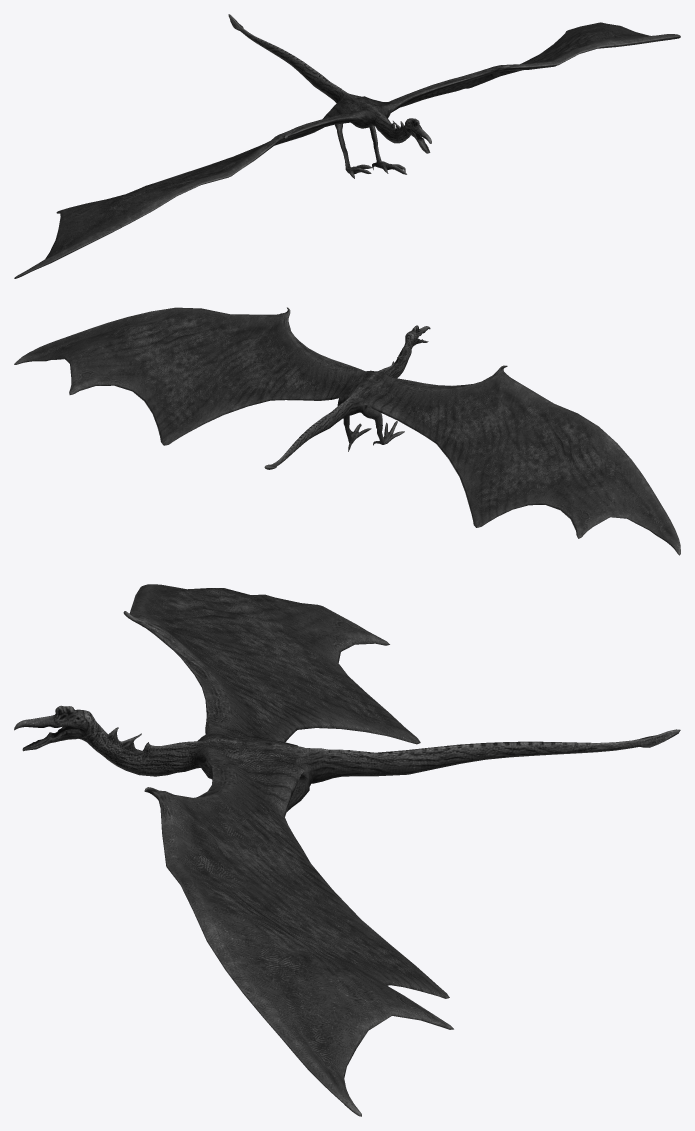
Rendered from Fellbeast_Animate_Grab_Glide_28.obj.
3 views of the same model, one above another, from view 1: azimuth 30°, elevation 25°; view 2: azimuth 150°, elevation 25°; view 3: azimuth 270°, elevation 25° (orthographic). The views are drawn at different scales.
Parts seen in each view (by area): view 1: Fellbeast; view 2: Fellbeast; view 3: Fellbeast.
Part boxes in pixels (bbox=[...]): Fellbeast: bbox=[14, 14, 680, 278]; Fellbeast: bbox=[14, 307, 680, 555]; Fellbeast: bbox=[14, 584, 680, 1116].
Size of the model in its own units: 9.2 by 1.63 by 4.38.
